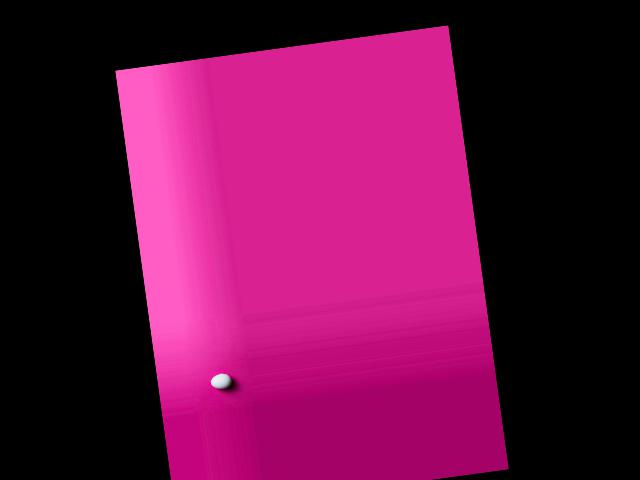egg: (209, 371, 232, 389)
